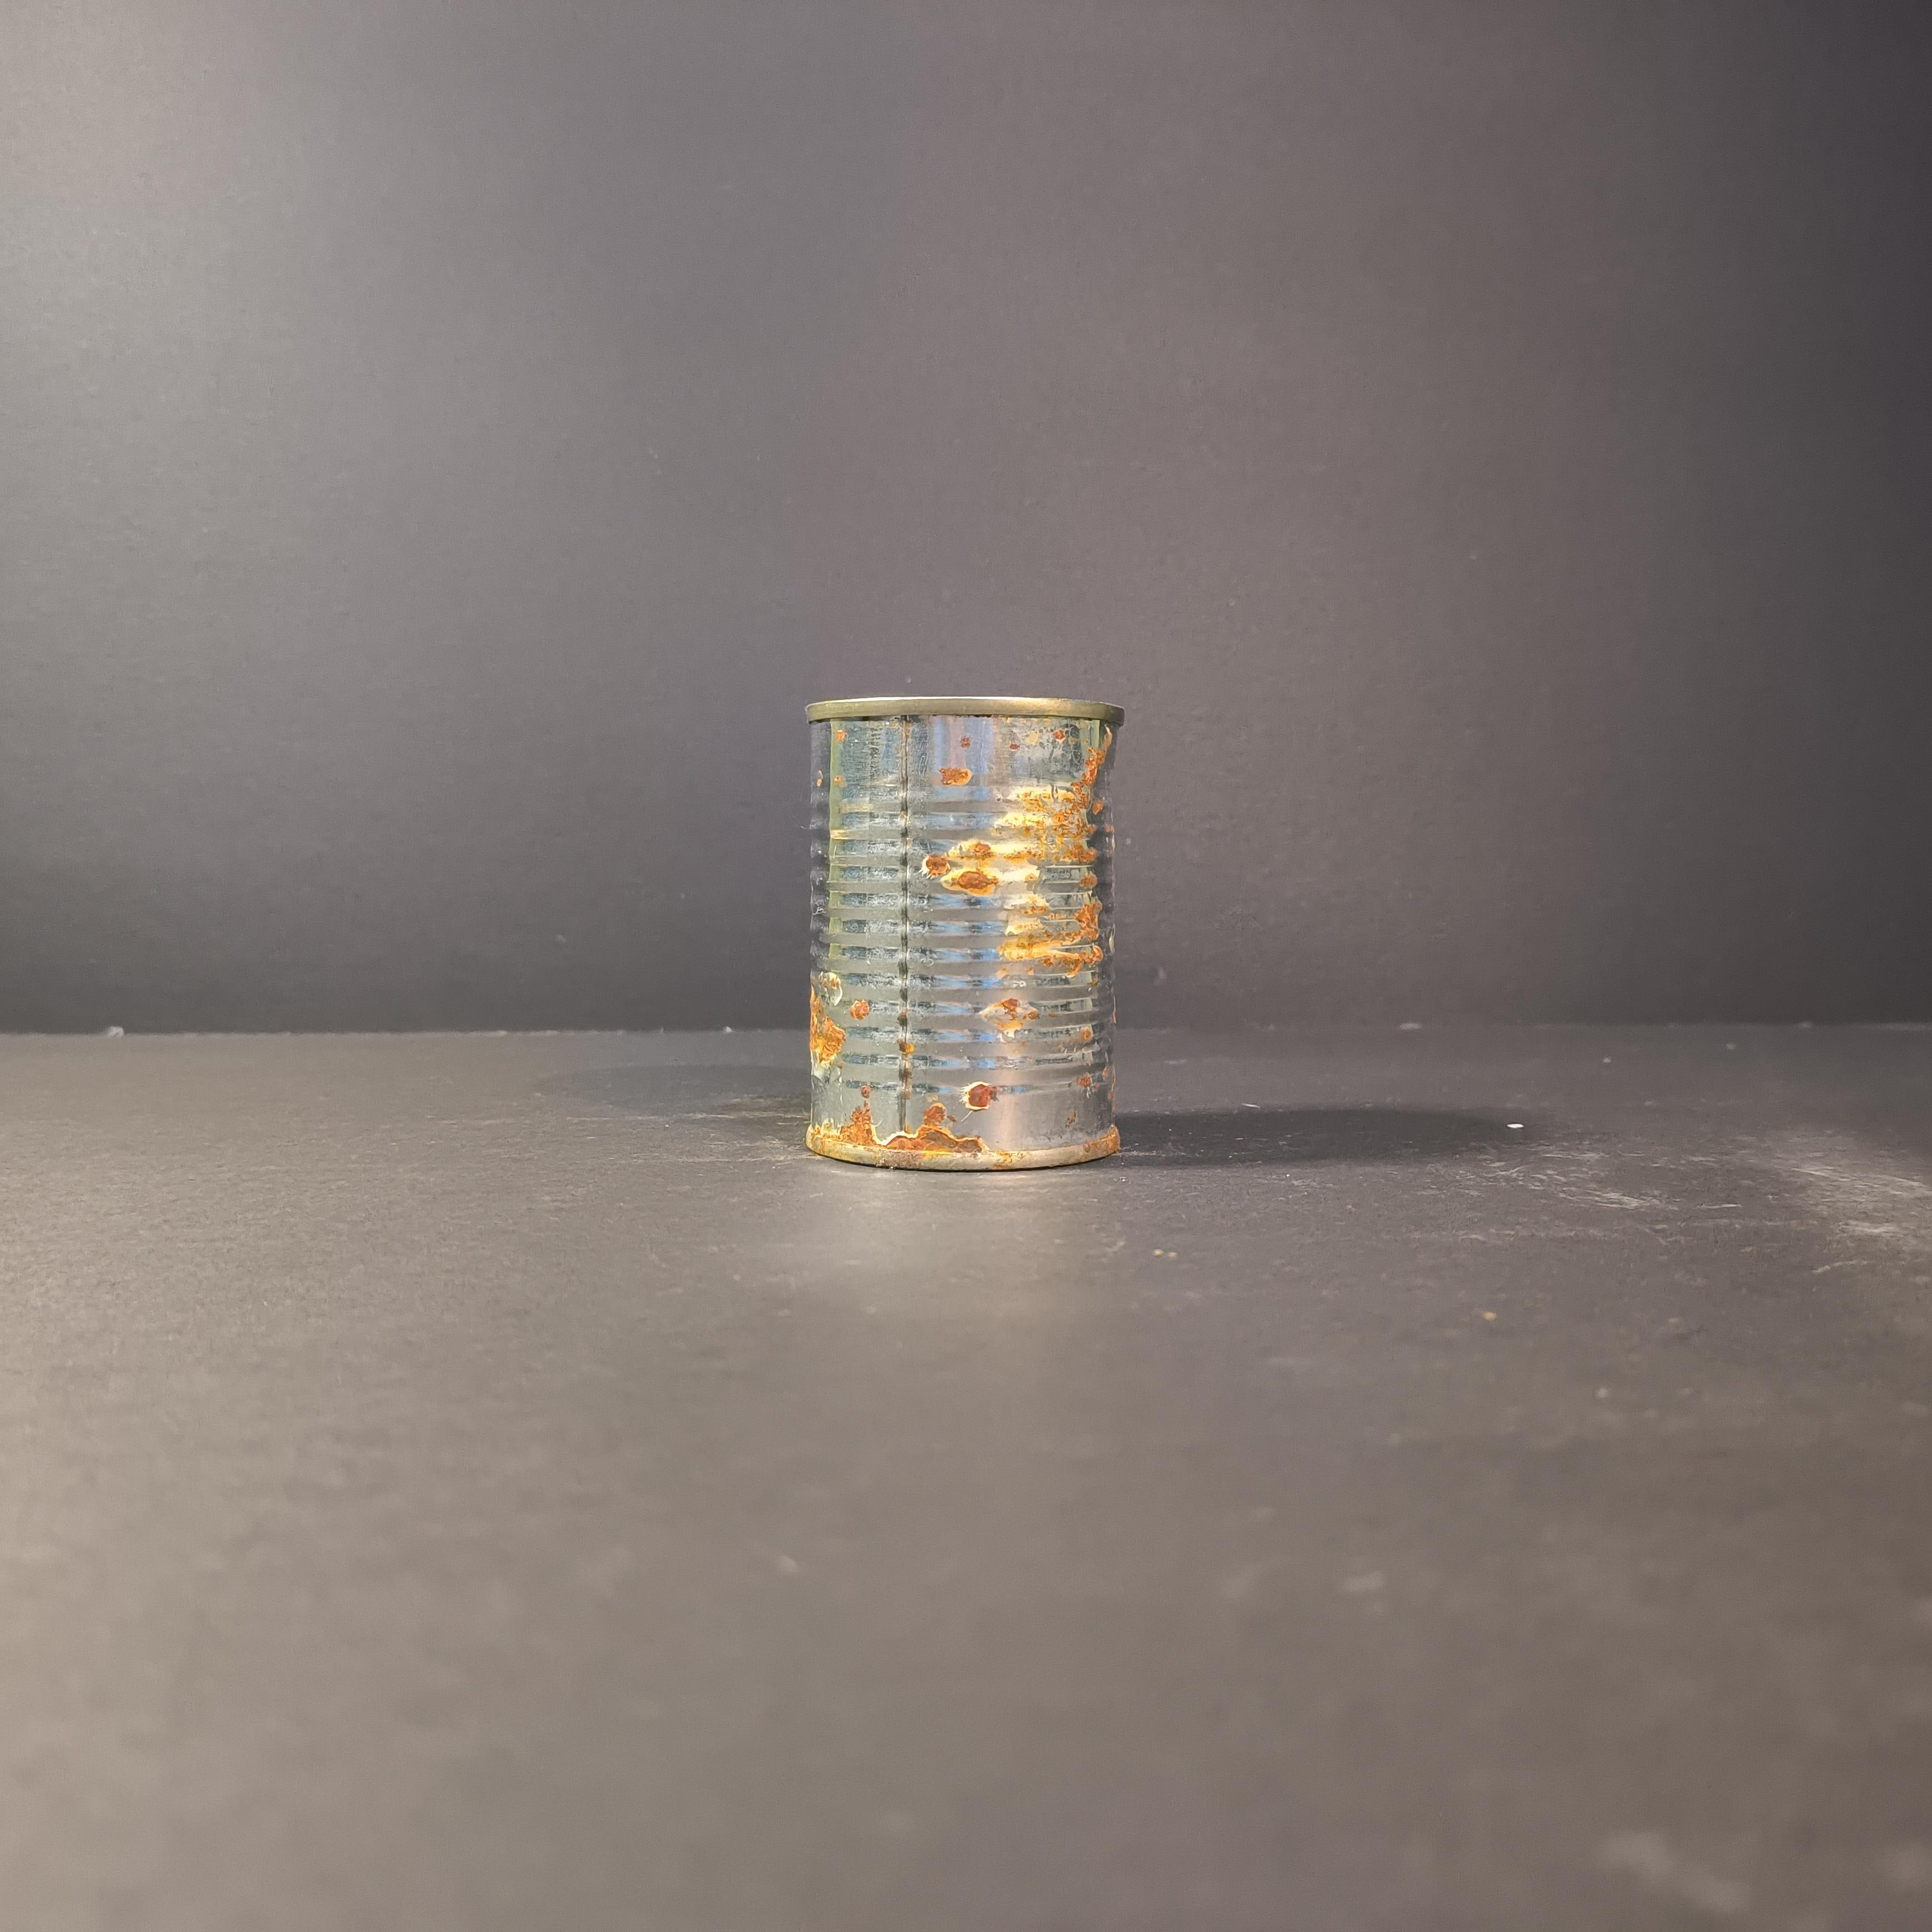Rusted: (773, 665, 1141, 1201)
